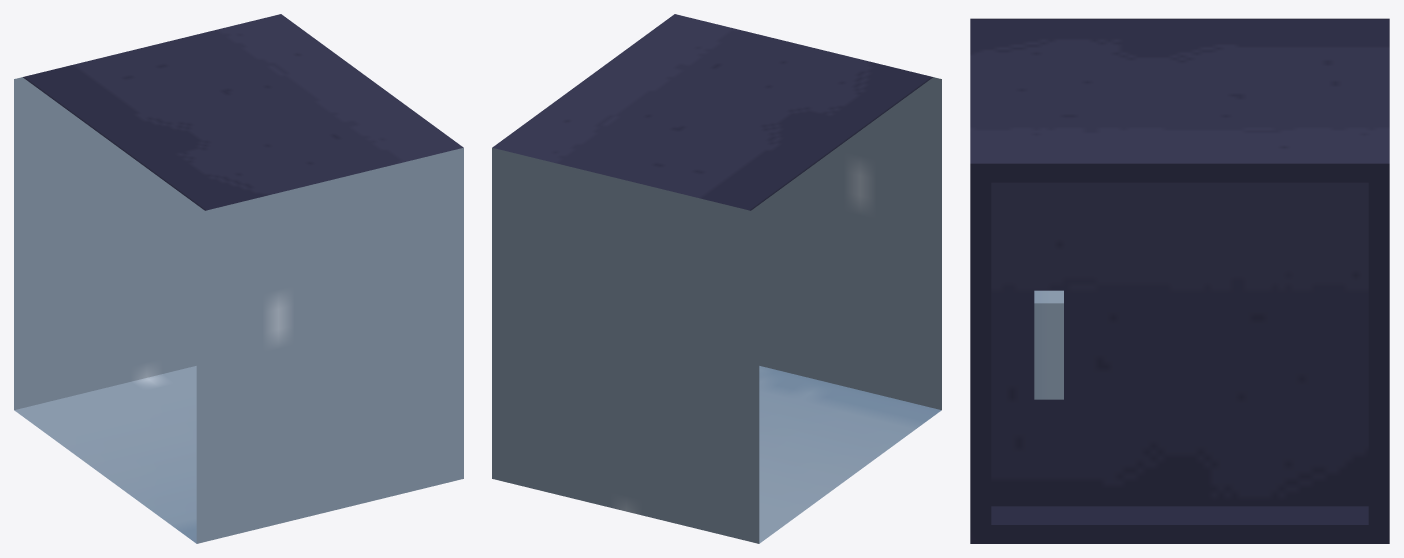
Rendered from Cofre.fbx.
3 renders of one model, left to right at view 1: azimuth 30°, elevation 25°; view 2: azimuth 150°, elevation 25°; view 3: azimuth 270°, elevation 25°, orthographic. The views are drawn at different scales.
Visible parts, largest first — view 1: Cofre; view 2: Cofre; view 3: Cofre.
Boxes of the visible parts, box(x1,y1,x2,y2) form: Cofre: box(14, 14, 463, 543); Cofre: box(492, 14, 941, 543); Cofre: box(970, 18, 1389, 543).
Bounding box in the file's own units: 66.01 × 78.21 × 78.21.
